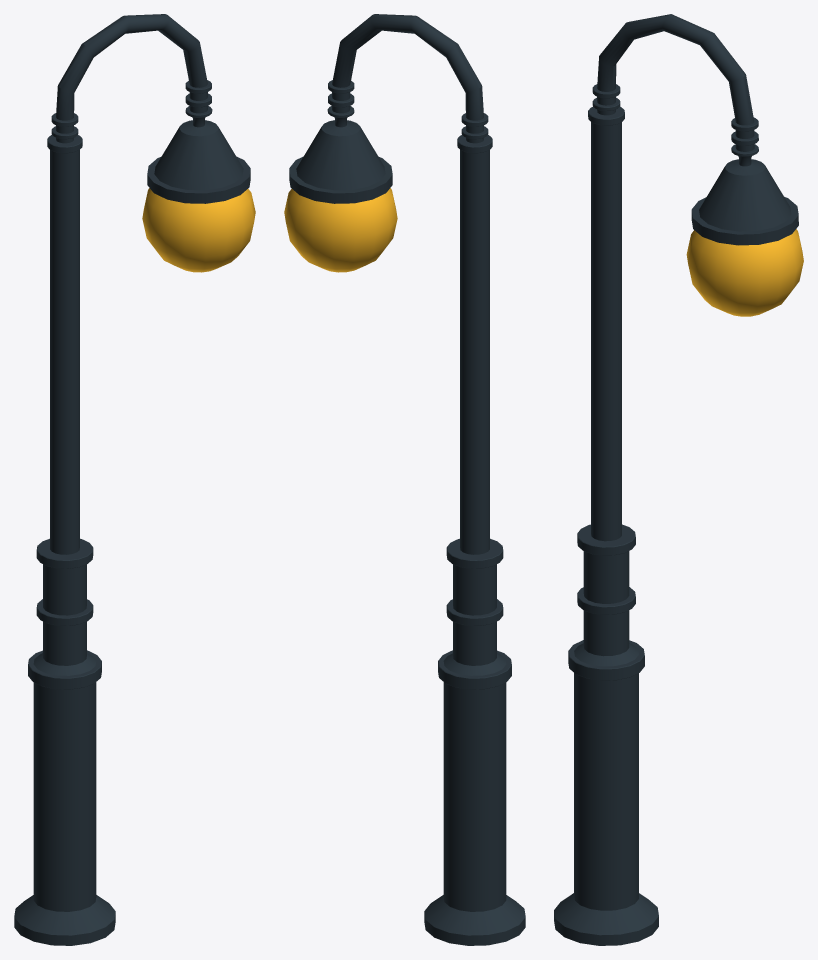
The model's file is StreetLamps.fbx_Lamp_2.fbx.
The picture shows the model from 3 angles, left to right: view 1: azimuth 30°, elevation 25°; view 2: azimuth 150°, elevation 25°; view 3: azimuth 330°, elevation 25°; orthographic projection. The views are drawn at different scales.
Visible parts, largest first — view 1: Streetlamp_2; view 2: Streetlamp_2; view 3: Streetlamp_2.
Boxes of the visible parts, bbox=[...] form: Streetlamp_2: bbox=[14, 14, 255, 945]; Streetlamp_2: bbox=[284, 14, 525, 945]; Streetlamp_2: bbox=[554, 14, 803, 945].
Bounding box in the file's own units: 90.84 × 209 × 783.
